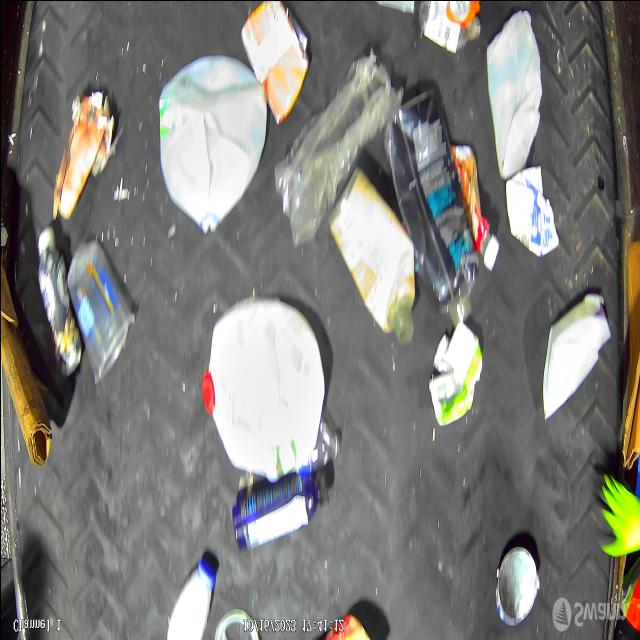milk_jug: (203, 296, 324, 484)
